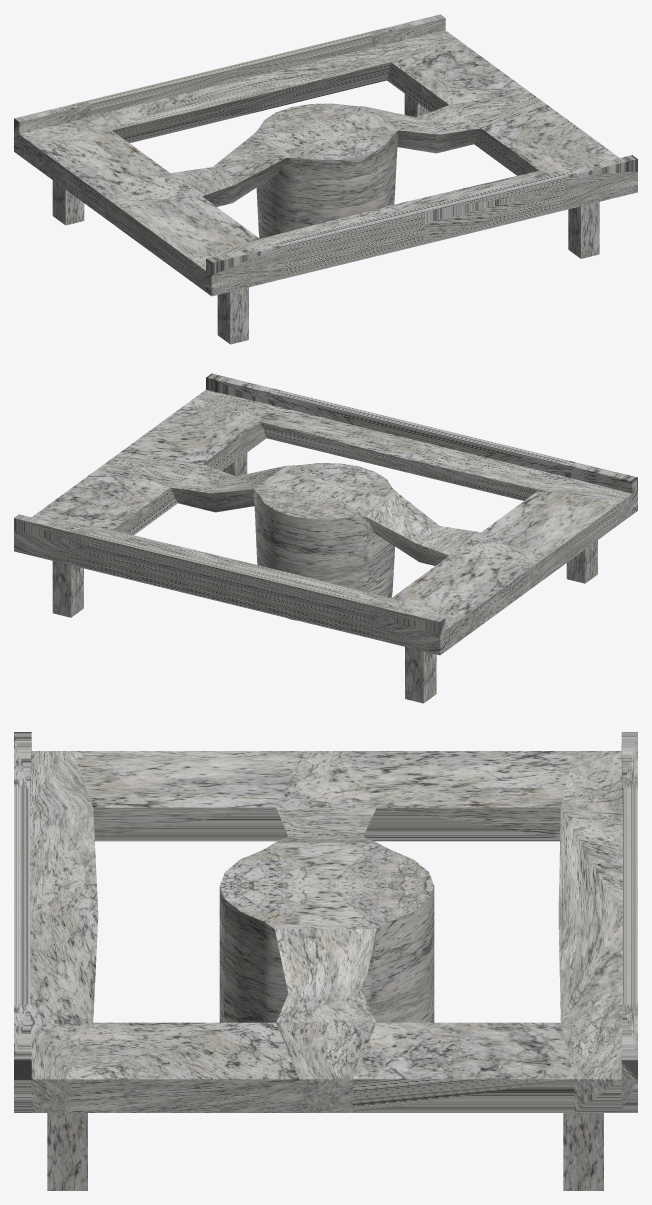
Rendered from KOTHMap1.obj.
The picture shows the model from 3 angles, top to bottom: view 1: azimuth 30°, elevation 25°; view 2: azimuth 150°, elevation 25°; view 3: azimuth 270°, elevation 25°; orthographic projection. The views are drawn at different scales.
Visible parts, largest first — view 1: polySurface3; view 2: polySurface3; view 3: polySurface3.
Boxes of the visible parts, box(x1,y1,x2,y2) form: polySurface3: box(14, 14, 637, 344); polySurface3: box(14, 373, 637, 703); polySurface3: box(14, 732, 637, 1190).
Bounding box in the file's own units: 39.53 × 9.18 × 31.74.
1 material, 1 textured.
